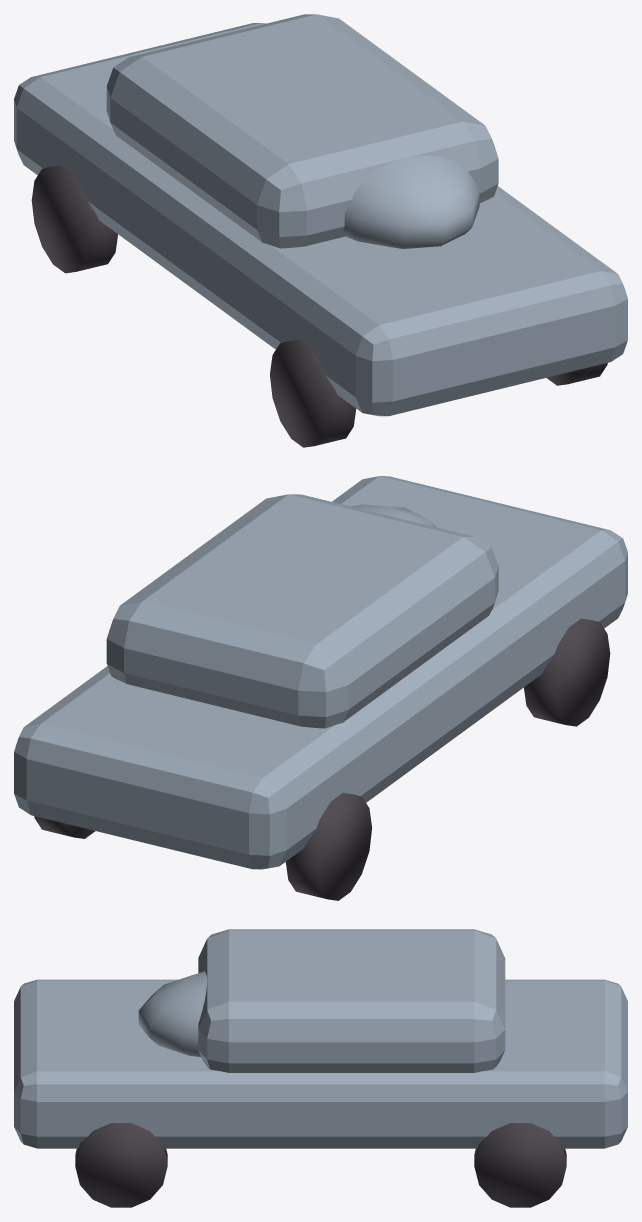
The model's file is CarUnderTarp.fbx.
3 renders of one model, top to bottom at view 1: azimuth 30°, elevation 25°; view 2: azimuth 150°, elevation 25°; view 3: azimuth 270°, elevation 25°, orthographic. The views are drawn at different scales.
Visible parts, largest first — view 1: CarUnderTarp; view 2: CarUnderTarp; view 3: CarUnderTarp.
Part boxes in pixels (x1,y1,x2,y2): CarUnderTarp: [14, 14, 627, 447]; CarUnderTarp: [14, 476, 627, 900]; CarUnderTarp: [14, 929, 627, 1207].
Size of the model in its own units: 180 by 132 by 400.
